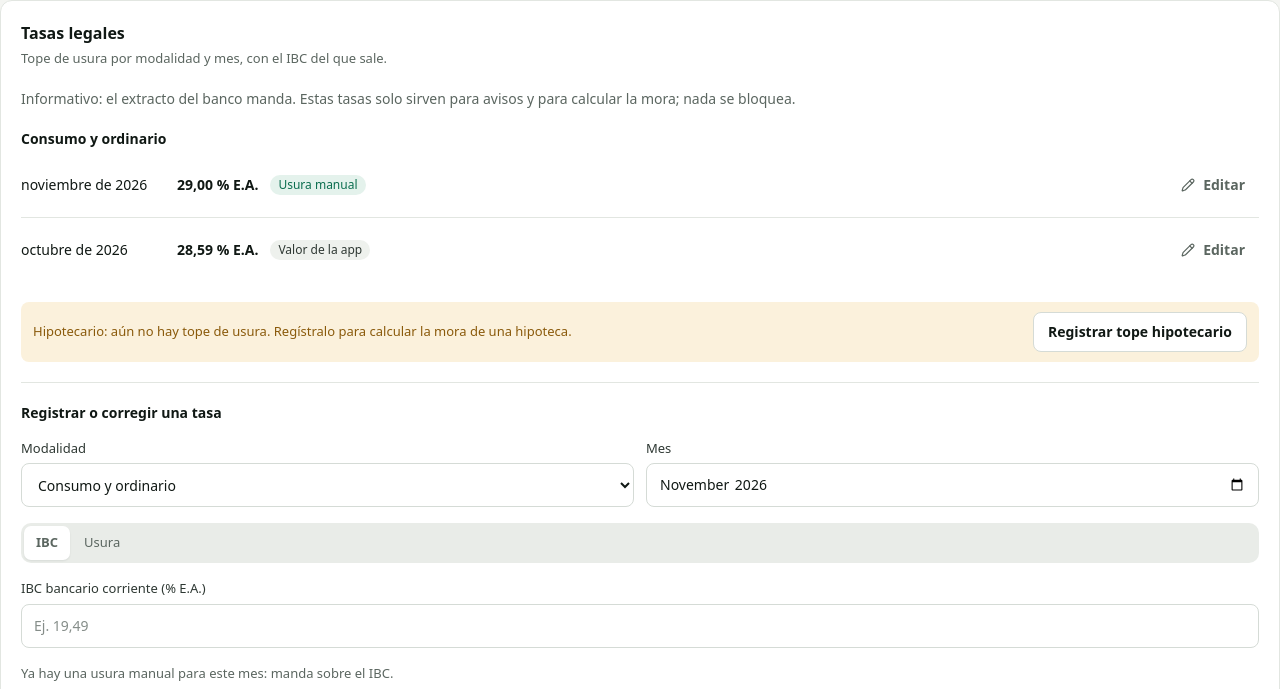
LegalRatesPanel rate form › says a manual usury already wins over an IBC for that month, and that saving replaces a stored row
Expected: the text "Ya hay una usura manual para este mes: manda sobre el IBC." is shown, [21,664,393,682]
Click the button "Usura". click: click(102, 543)
box: [72,526,132,560]
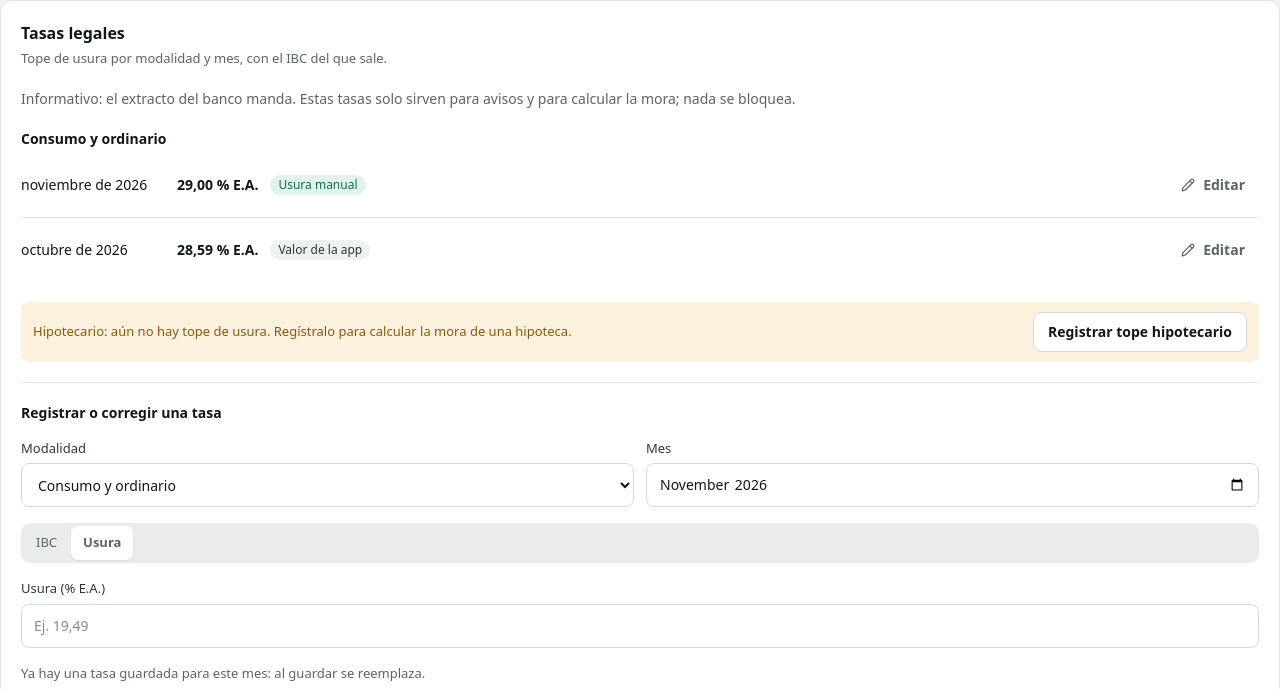
Expected: the text "manda sobre el IBC" is gone
Expected: the text "Ya hay una tasa guardada para este mes: al guardar se reemplaza." is shown, [21,664,425,682]
Replace the text in the field labelled "Mes" with "2027-03". click: (952, 485)
box: [646,463,1259,507]
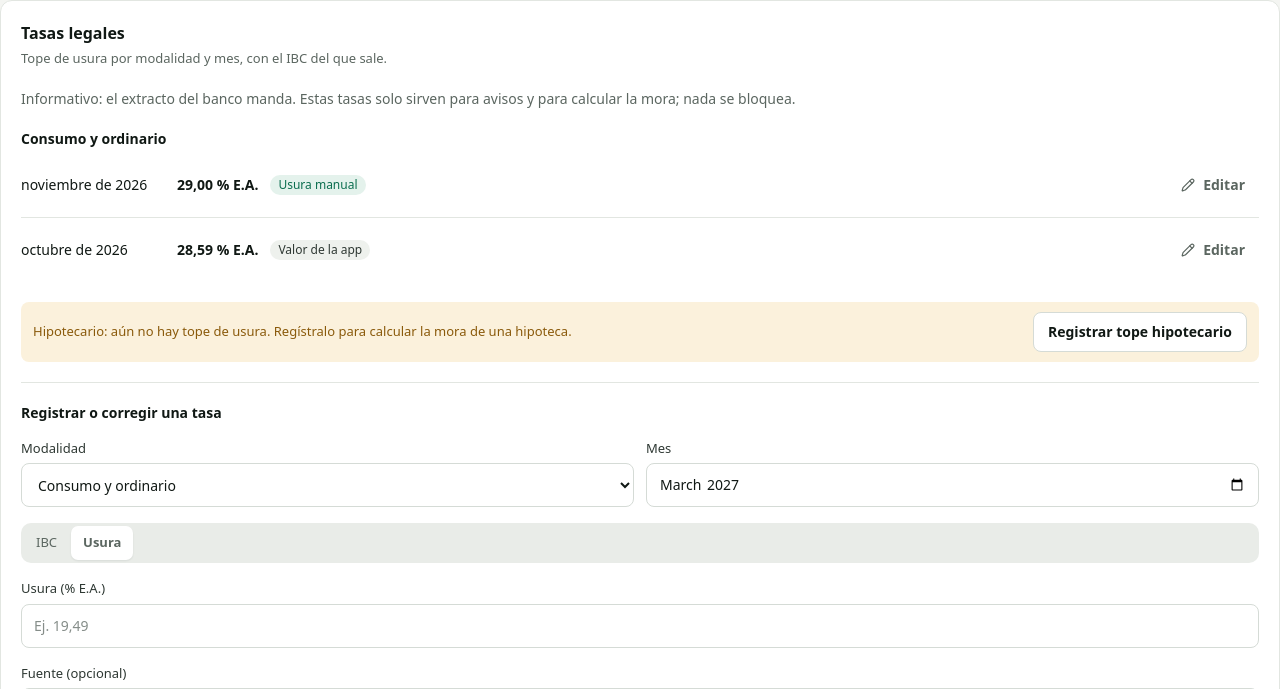
Expected: the text "Ya hay una" is gone
